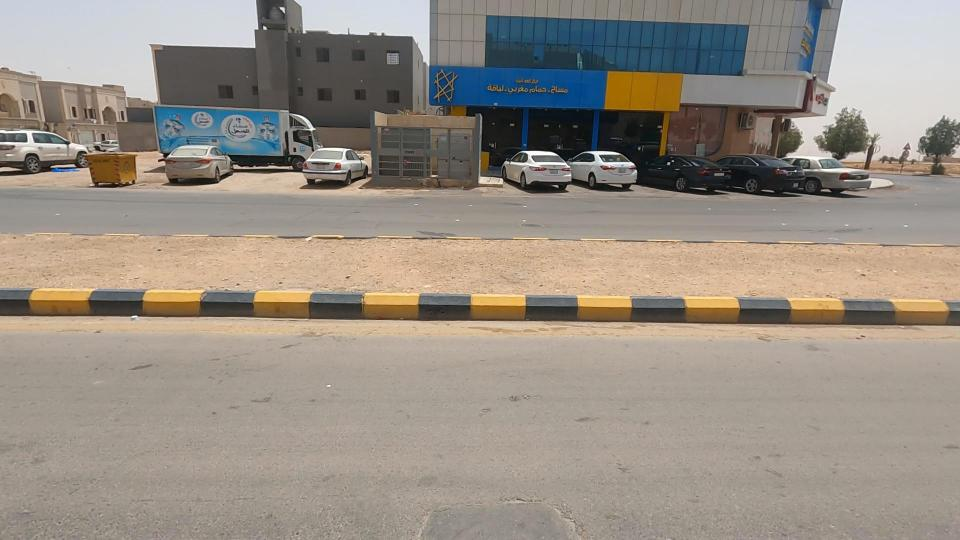CLUTTER_SIDEWALK: (0, 197, 494, 341), (338, 207, 899, 328)
